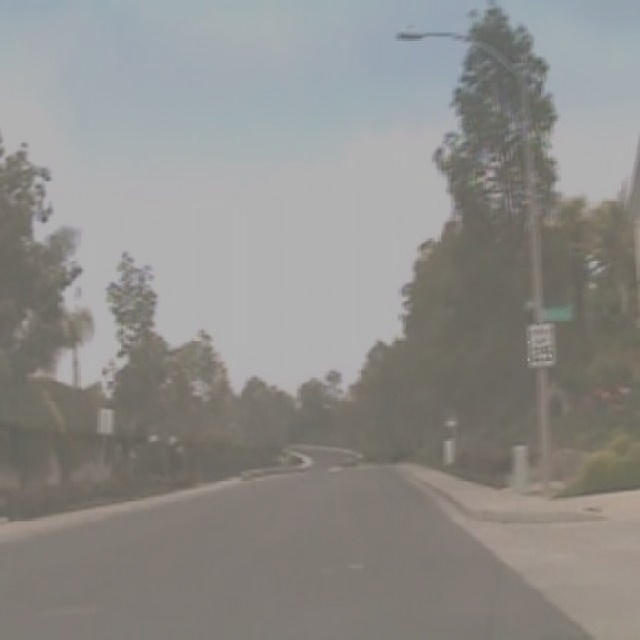speedLimit25: (528, 323, 554, 367)
